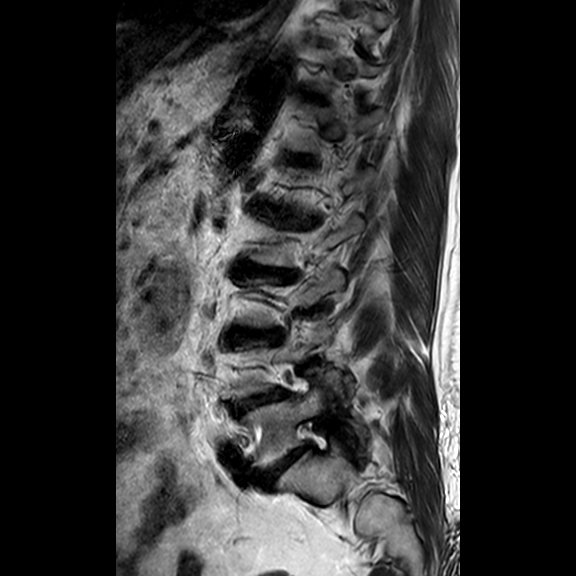LFS0: (287, 407, 341, 463)
